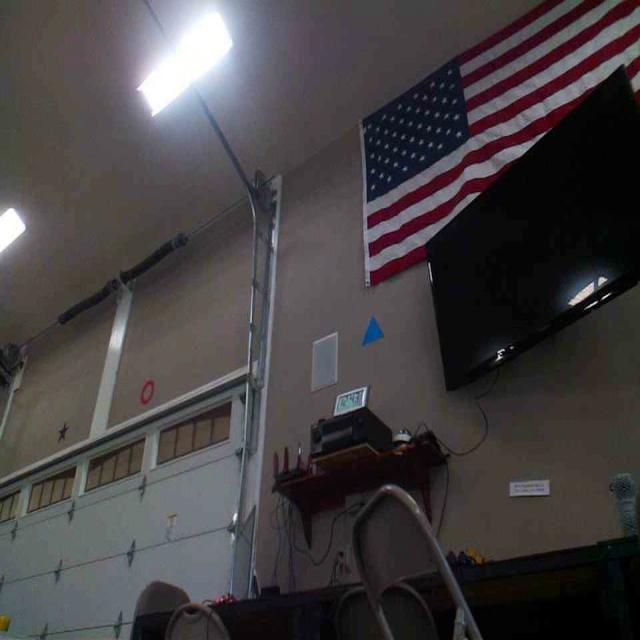ring_red: (139, 378, 154, 404)
star_black: (56, 420, 67, 441)
triangle_blue: (359, 315, 384, 345)
